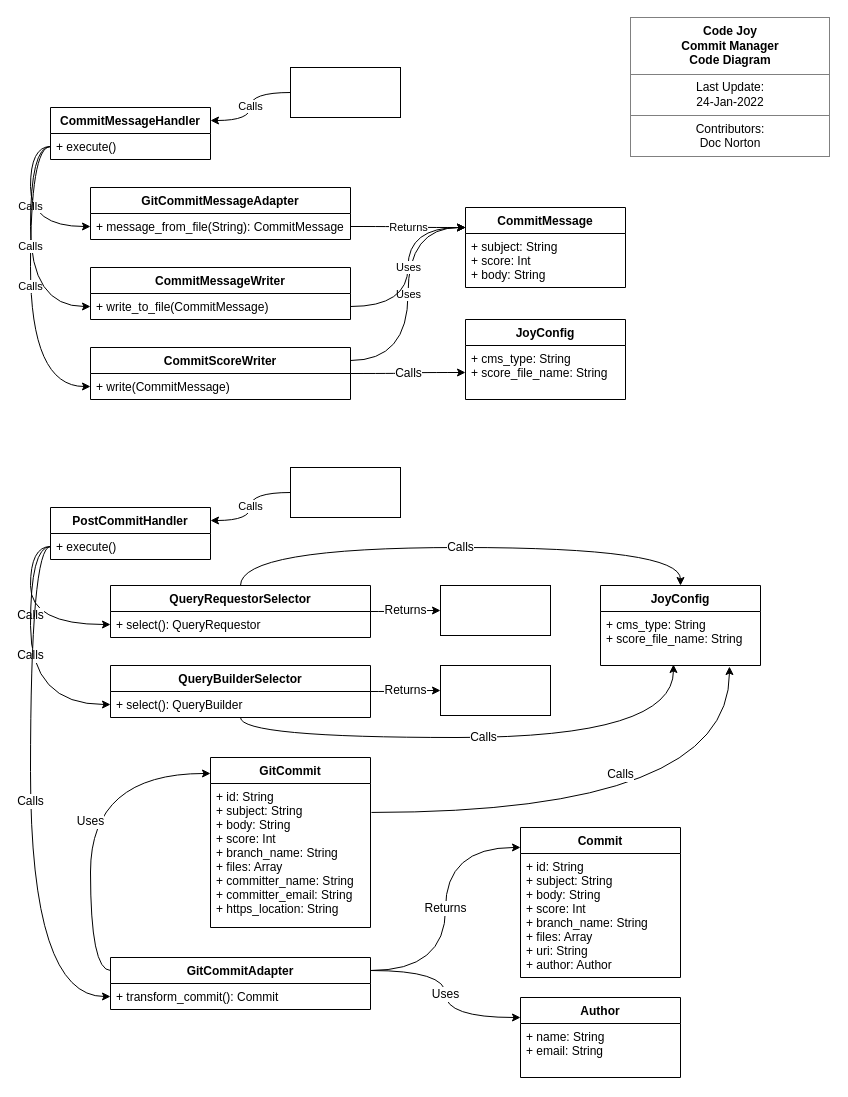
The diagram is 848 pixels wide and 1097 high, and some of its shapes have lost their labels. Each missing label, with the centre of its shape:
commit-msg hook: (x=345, y=92)
post-commit hook: (x=345, y=492)
«abstract» QueryBuilder: (x=495, y=690)
«abstract» QueryRequestor: (x=495, y=610)
